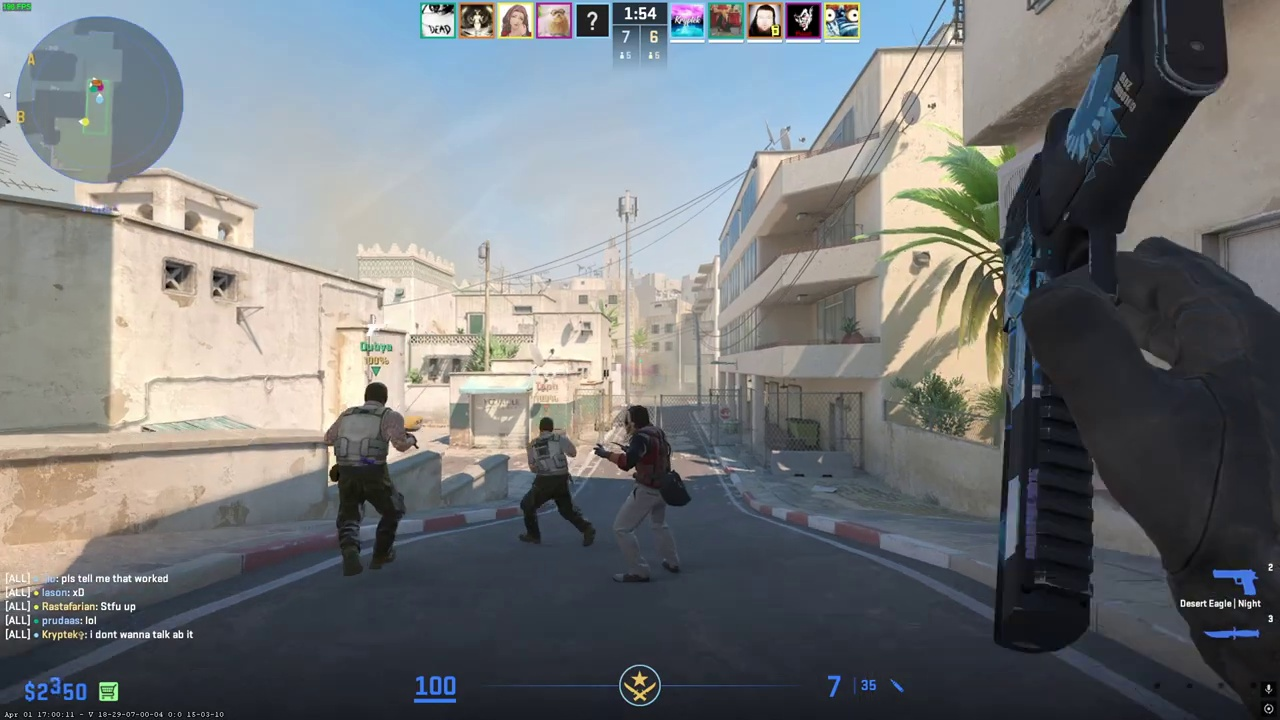Terrorist: (327, 382, 408, 577), (607, 405, 683, 583), (521, 417, 587, 547)
